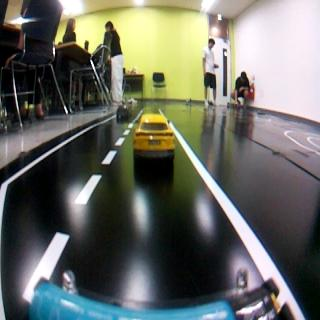car: (130, 112, 180, 170), (116, 102, 130, 121)
